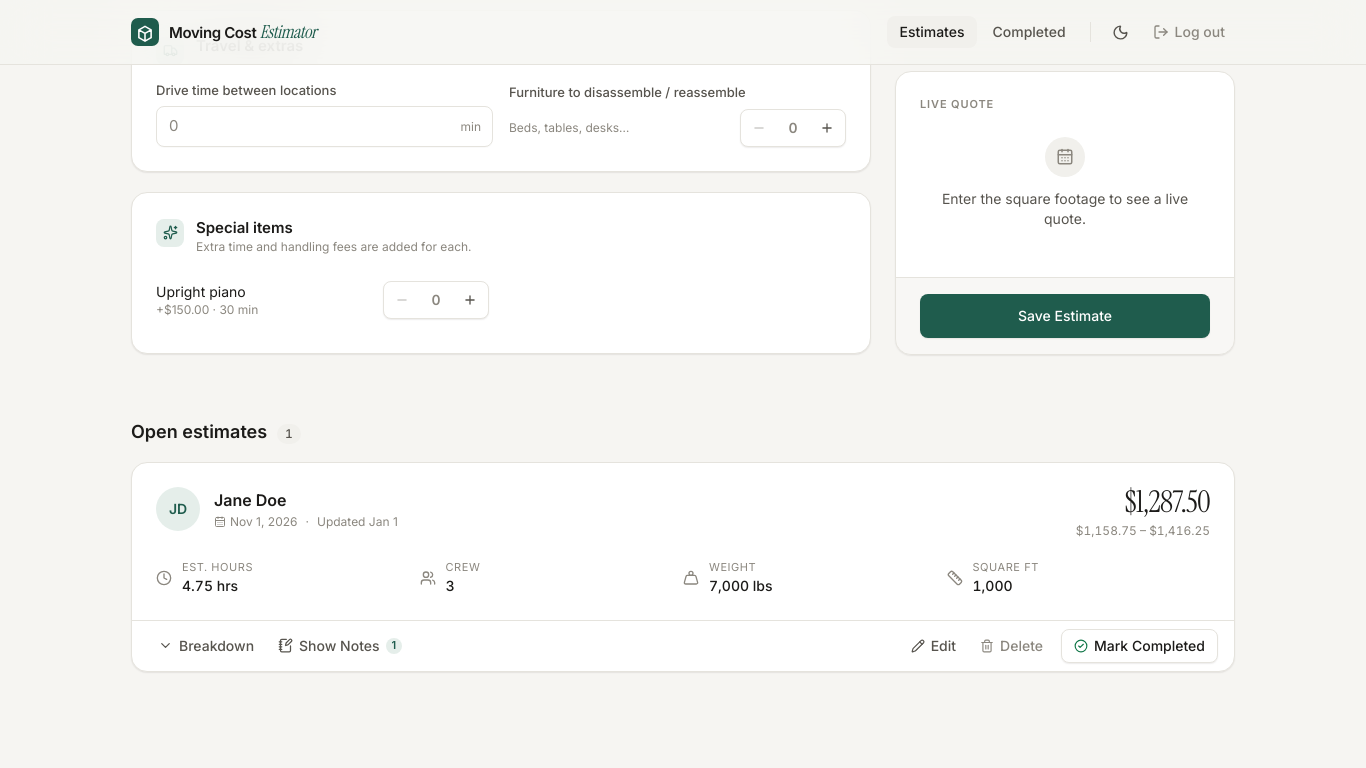
Test: Estimate notes › renders existing notes nested under their estimate
This screenshot has width=1366, height=768.
(page scrolled)
Expected: the heading "Jane Doe" is shown, [214,490,286,510]
Click the button "Show Notes 1" at (340, 646), box [268,630,412,662]
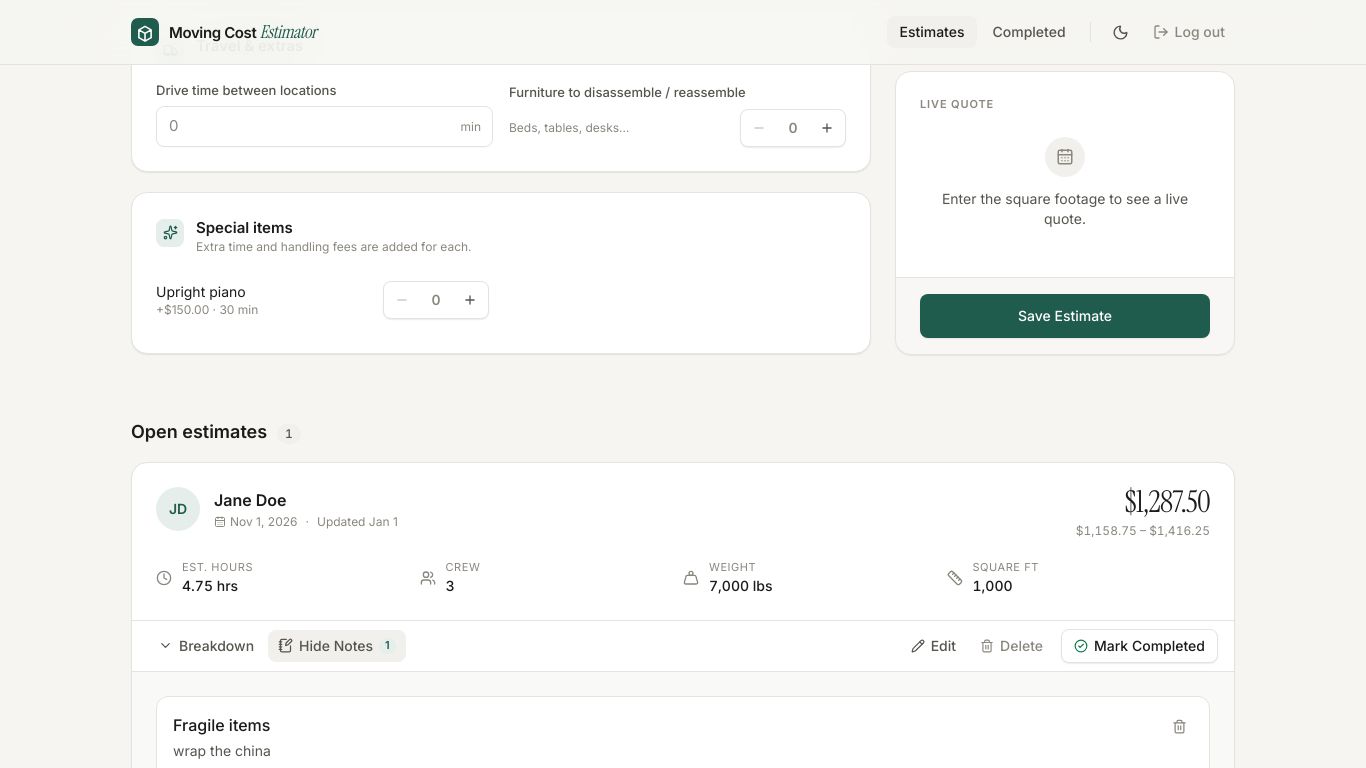
Expected: the text "Fragile items" is shown, [173,713,271,737]
Expected: the text "wrap the china" is shown, [173,741,271,761]
